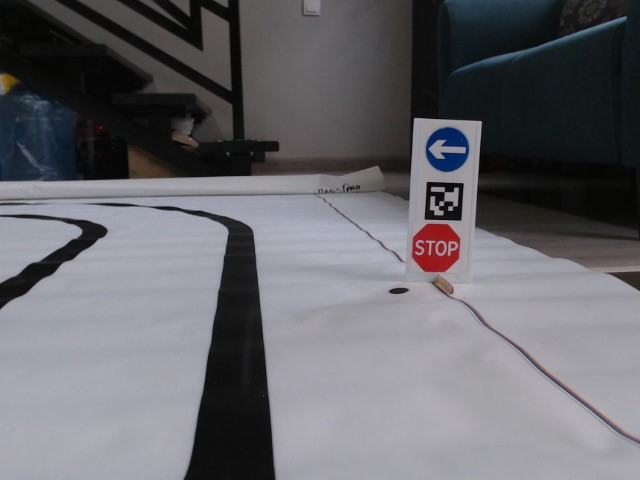Stop: (412, 221, 460, 271)
